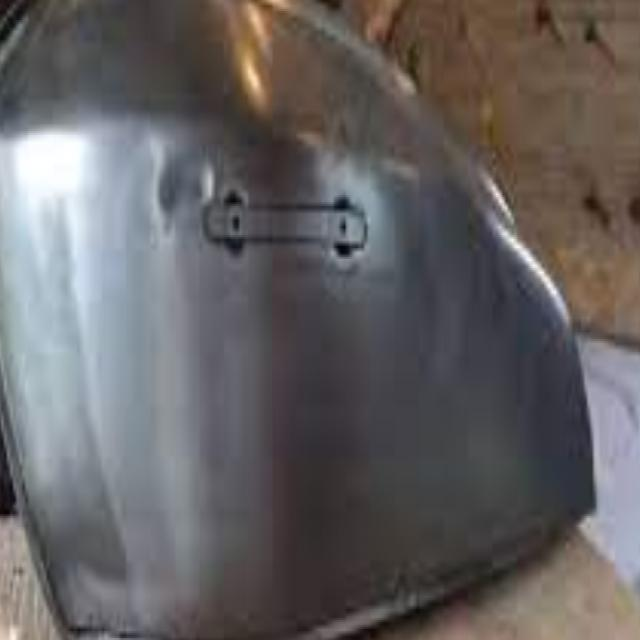dents: (129, 122, 222, 240)
